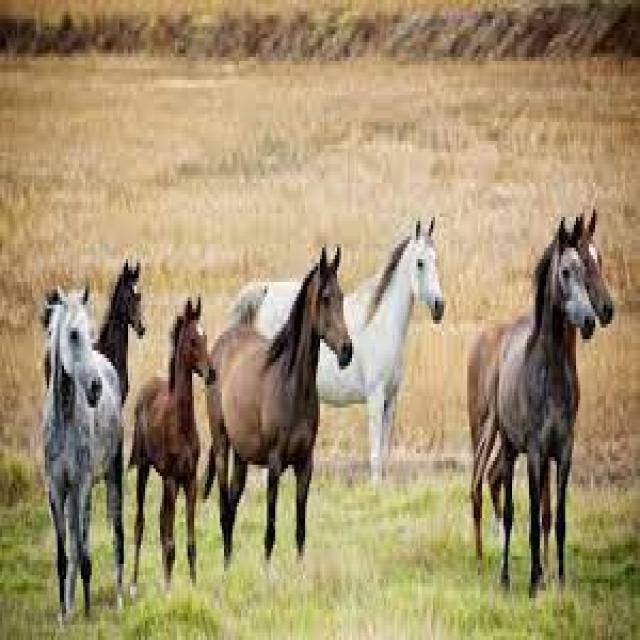horse-standing: (208, 239, 355, 568), (491, 213, 596, 606), (125, 288, 219, 606), (354, 213, 456, 497), (47, 277, 124, 605), (104, 258, 150, 401)
